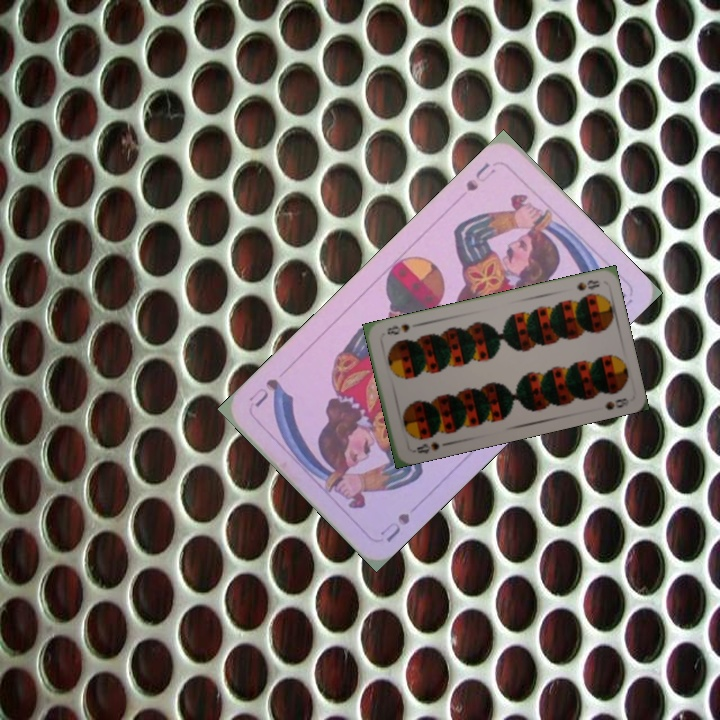S8: (412, 437, 442, 456), (573, 276, 602, 293)
SU: (376, 508, 412, 545), (461, 158, 498, 194)
